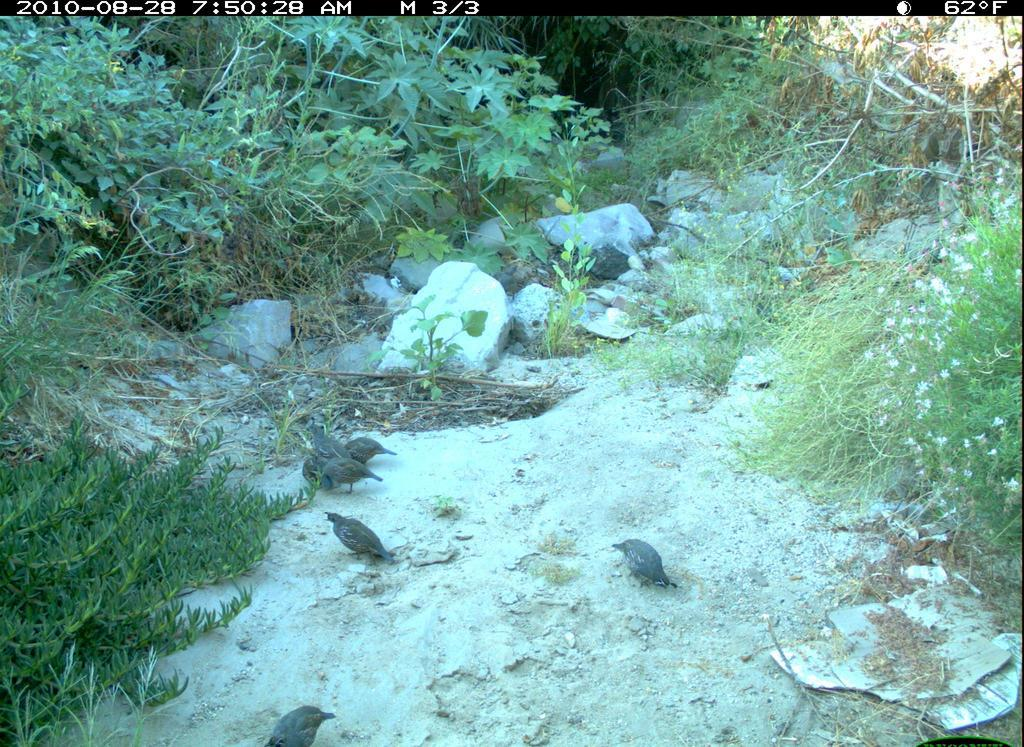bird: (314, 509, 404, 578), (609, 530, 683, 601), (262, 690, 338, 747), (322, 451, 388, 498), (294, 446, 342, 496), (306, 418, 354, 464), (331, 433, 391, 464)
